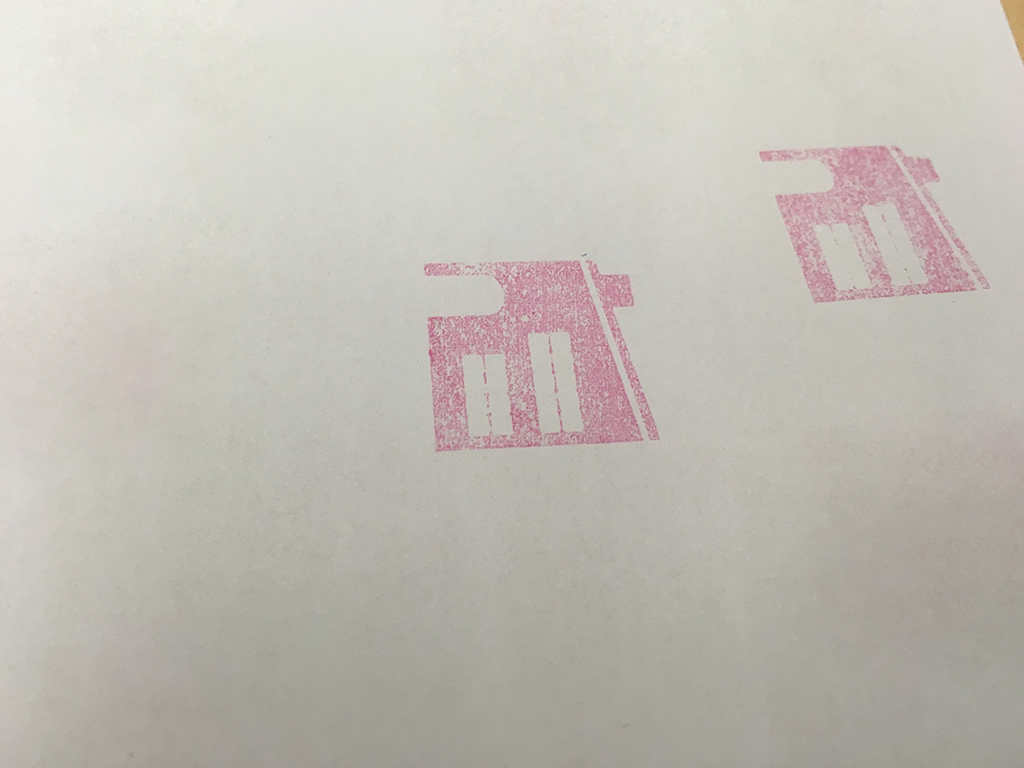house: (409, 249, 678, 456), (748, 126, 1012, 314)
